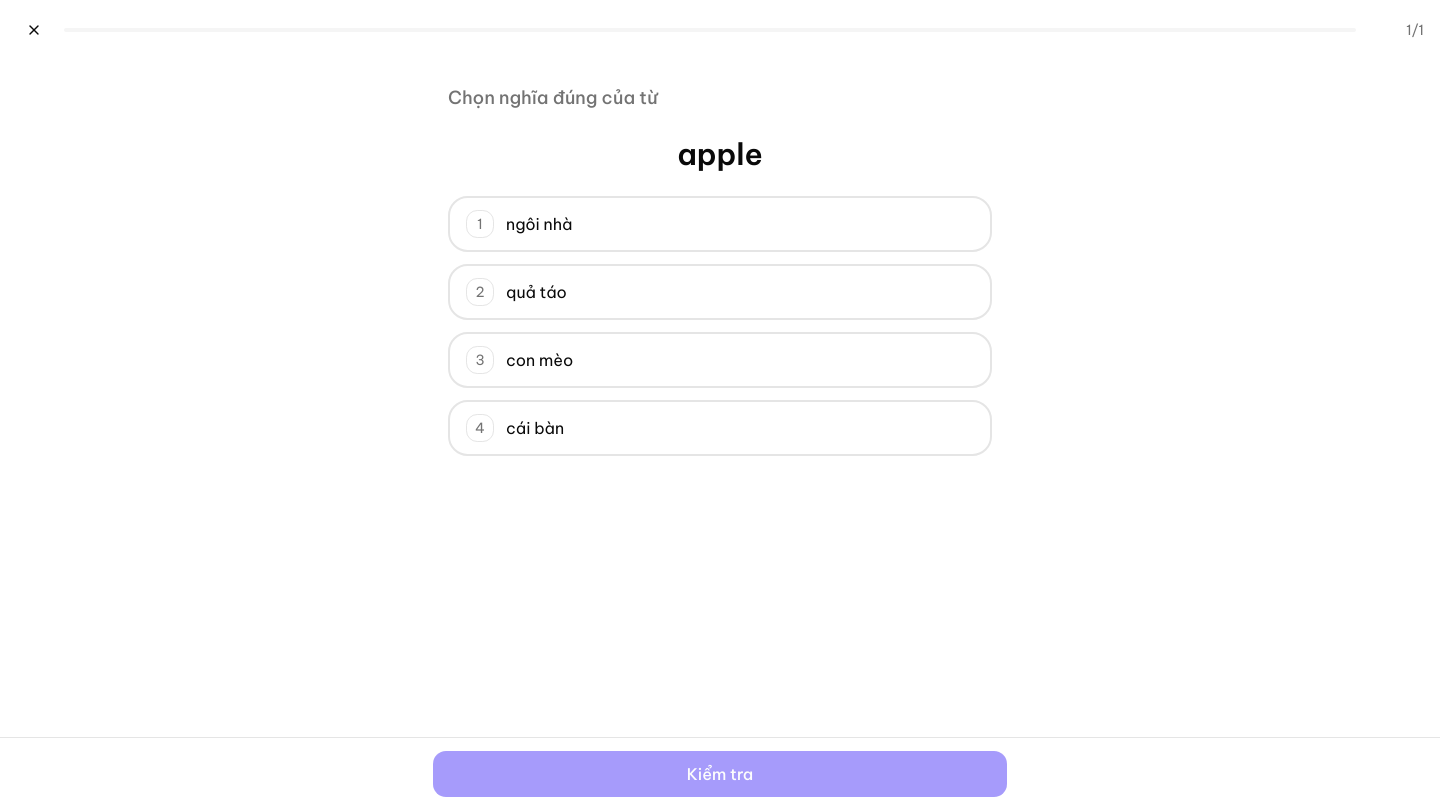
Test case: ExerciseRunner › shows the right answer after a wrong choice, with an icon and words
Click the radio button labelled "3 con mèo" at (540, 360), box [448,332,992,388]
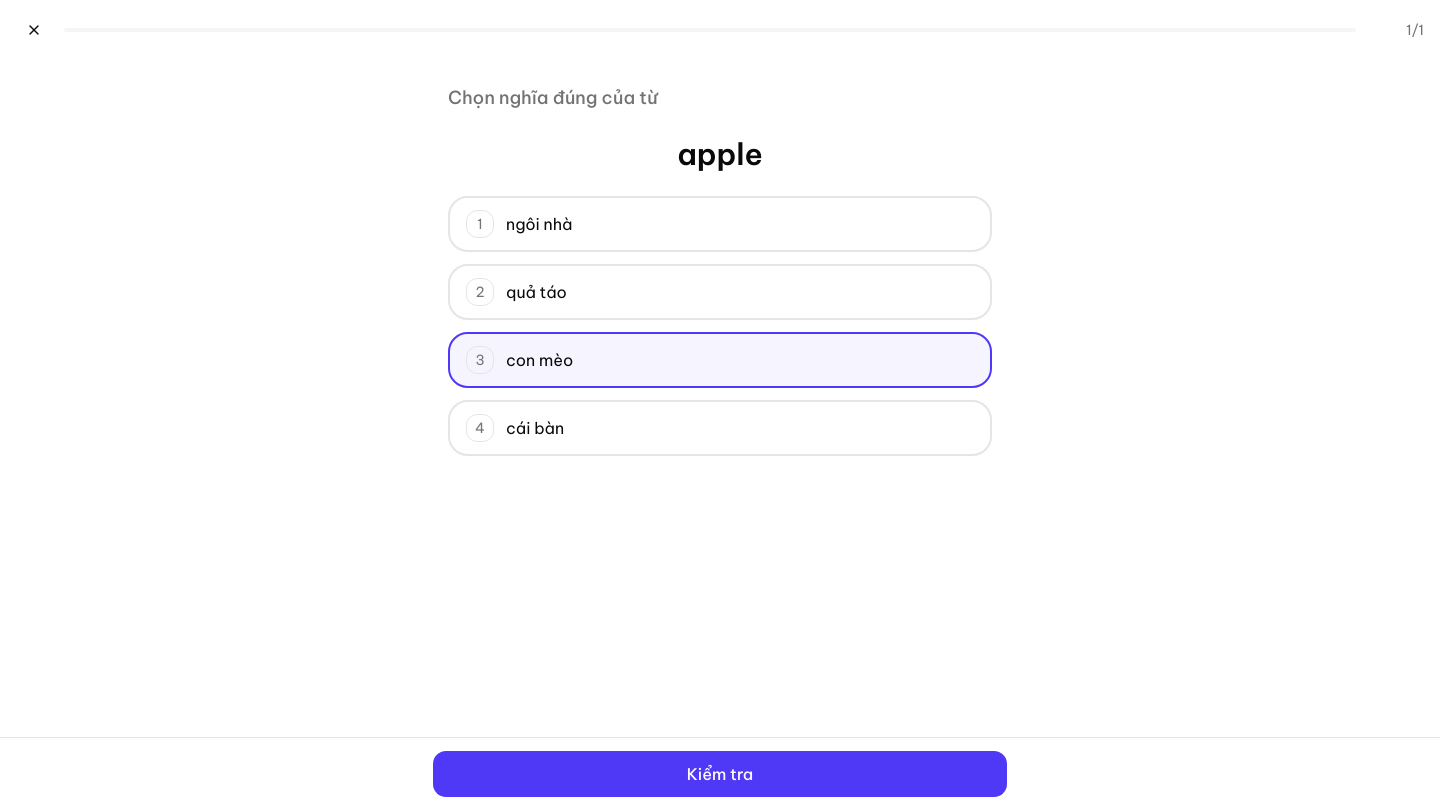
Click the button "Kiểm tra" at (720, 774), box [432,750,1008,798]
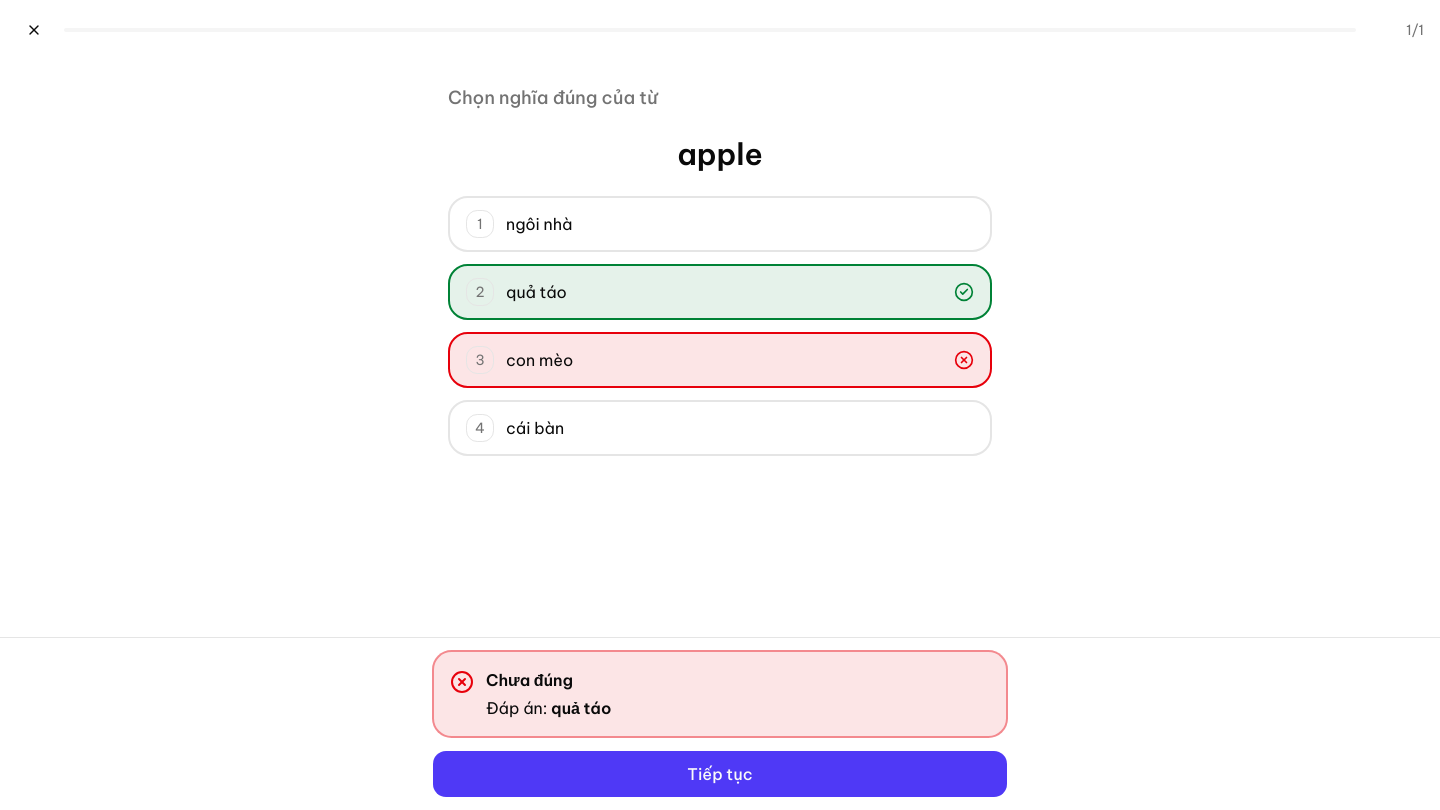
Now the text "Chưa đúng" is shown, box [486,670,573,690]
Now the text "quả táo" next to "Đáp án:" is shown, box [551,698,611,718]
